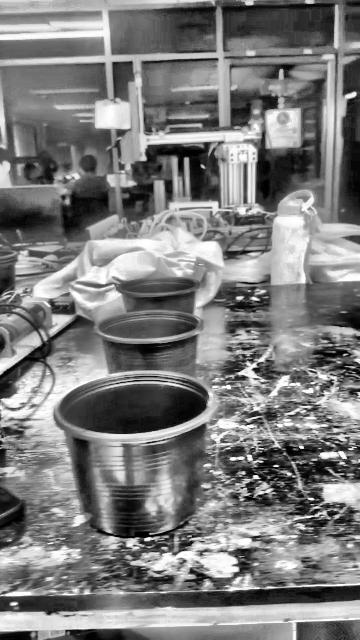pot: (54, 373, 213, 537), (95, 310, 202, 376), (119, 277, 199, 313), (0, 249, 17, 295)
